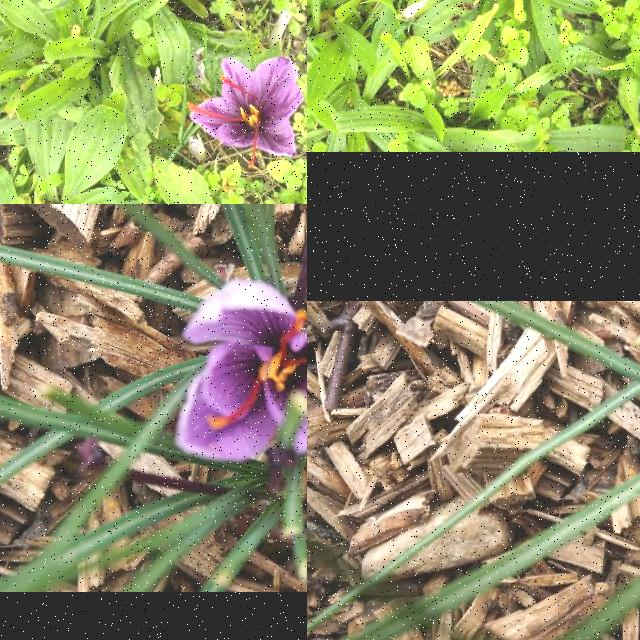flower: (174, 281, 307, 460), (187, 58, 303, 168)
